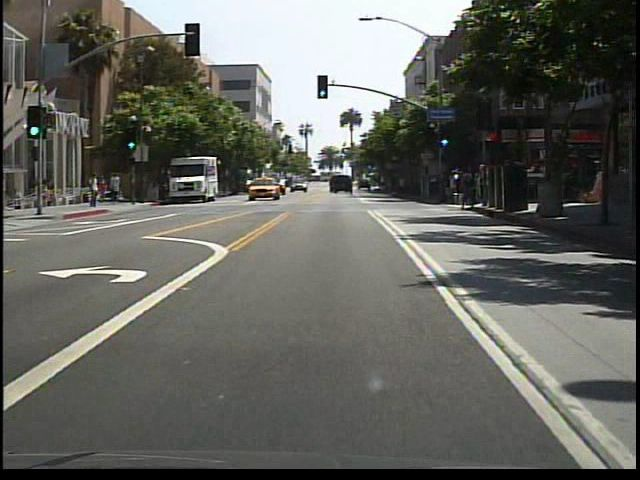person: (108, 171, 124, 205), (89, 172, 103, 210), (39, 180, 55, 210), (99, 175, 111, 205)
